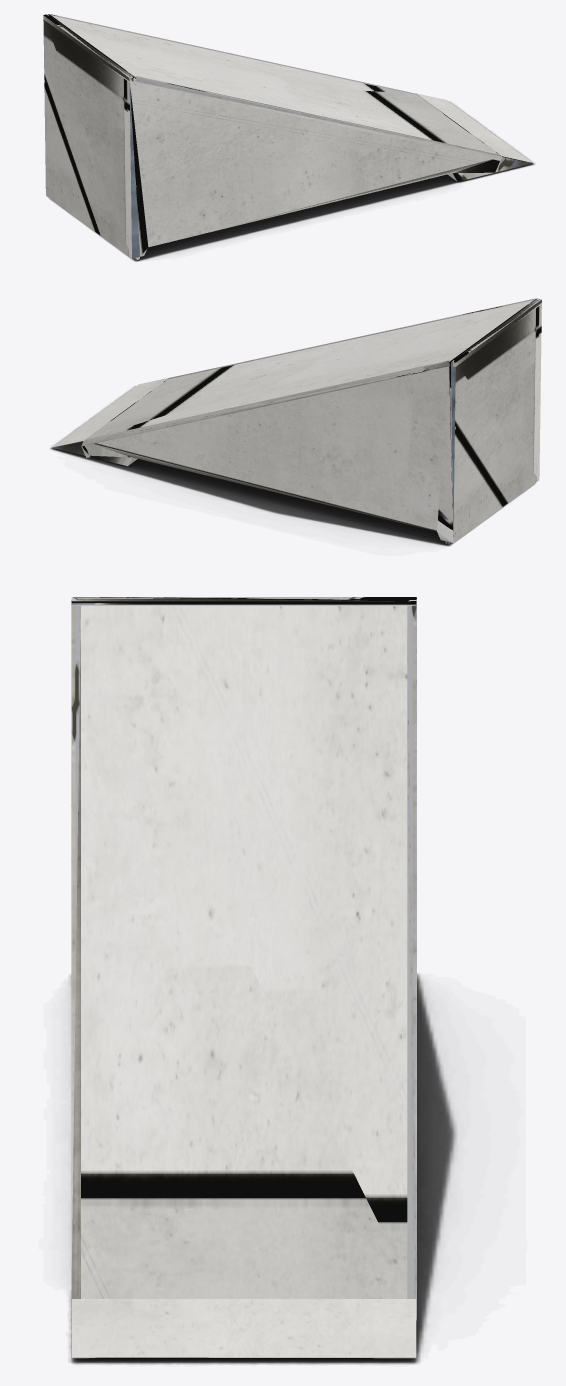
The model's file is bank-150.gltf.
3 views of the same model, one above another, from view 1: azimuth 30°, elevation 25°; view 2: azimuth 150°, elevation 25°; view 3: azimuth 270°, elevation 25° (orthographic). The views are drawn at different scales.
Visible parts, largest first — view 1: SK0516_Bank_150.001, Schatten; view 2: SK0516_Bank_150.001, Schatten; view 3: SK0516_Bank_150.001, Schatten.
Boxes of the visible parts, x1,y1,x2,y2 form: SK0516_Bank_150.001: [43, 14, 532, 259]; Schatten: [50, 101, 534, 261]; SK0516_Bank_150.001: [52, 298, 541, 544]; Schatten: [50, 386, 535, 546]; SK0516_Bank_150.001: [71, 597, 416, 1358]; Schatten: [70, 974, 456, 1364].
Bounding box in the file's own units: 3.47 × 1.48 × 1.77.
Materials: 4 (4 with a texture image).
